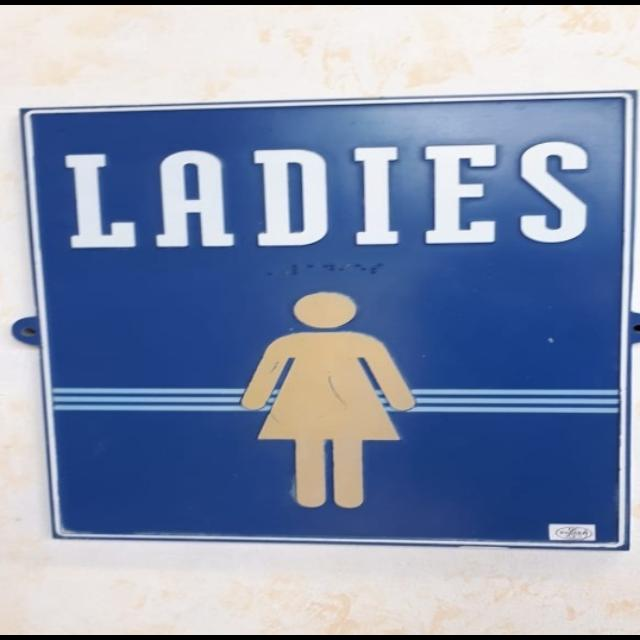wc nu: (12, 93, 639, 549)
